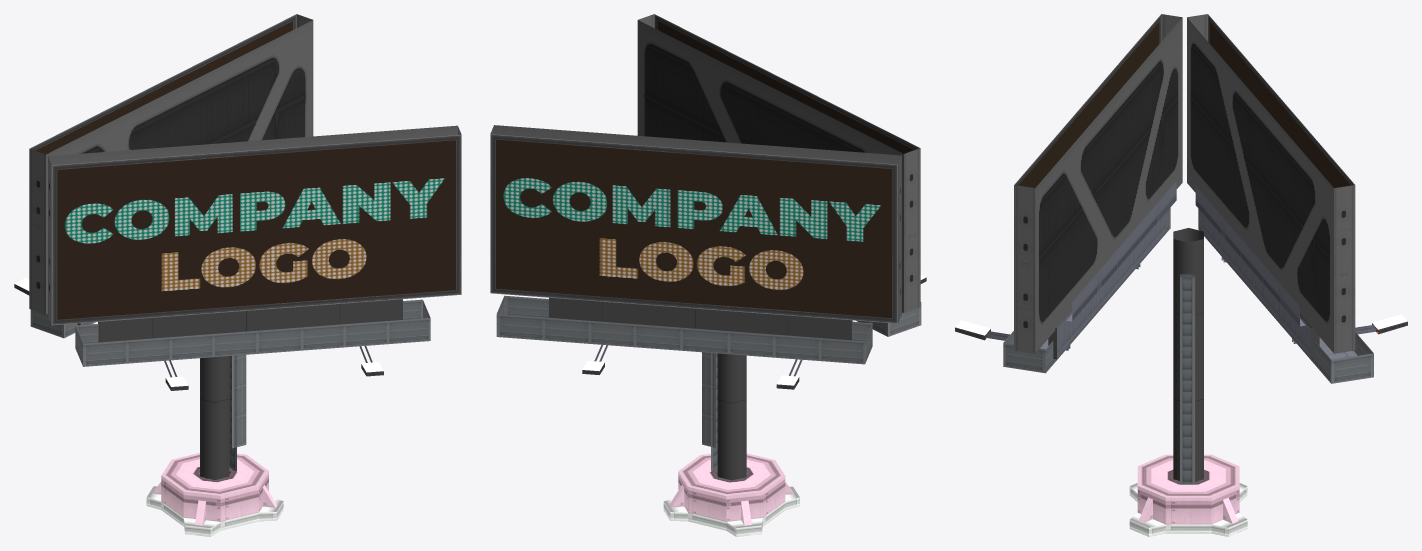
Rendered from pro_billboard_tripple_ground.fbx.
3 views of the same model, side by side, from view 1: azimuth 30°, elevation 25°; view 2: azimuth 150°, elevation 25°; view 3: azimuth 270°, elevation 25° (orthographic). The views are drawn at different scales.
Parts seen in each view (by area): view 1: pro_billboard_tripple_ground, support_ground; view 2: pro_billboard_tripple_ground, support_ground; view 3: pro_billboard_tripple_ground, support_ground.
Boxes of the visible parts, bbox=[...] form: pro_billboard_tripple_ground: bbox=[14, 14, 461, 479]; support_ground: bbox=[146, 453, 283, 536]; pro_billboard_tripple_ground: bbox=[490, 14, 926, 480]; support_ground: bbox=[663, 453, 799, 536]; pro_billboard_tripple_ground: bbox=[955, 14, 1407, 484]; support_ground: bbox=[1129, 454, 1247, 536].
Size of the model in its own units: 1729 by 1943 by 1899.
